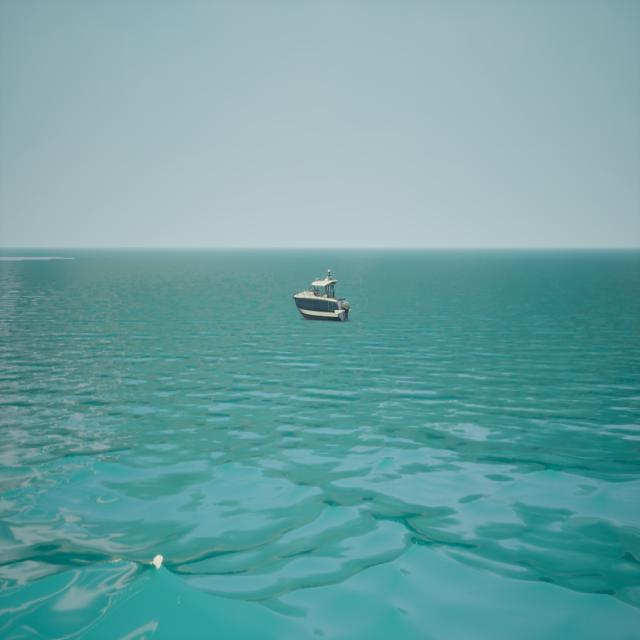ship: (291, 266, 352, 321)
